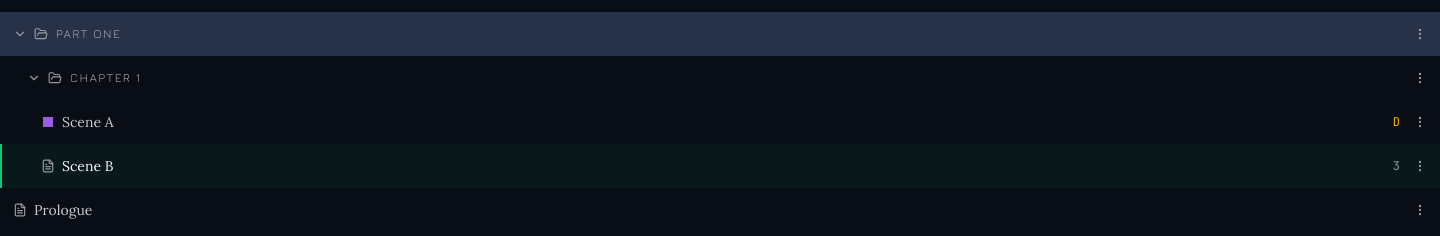
BinderTree › collapses a folder and remembers it
The width and height of the screenshot is (1440, 236).
Click the button named "Collapse Chapter 1" at (34, 78), box [20,56,48,100]
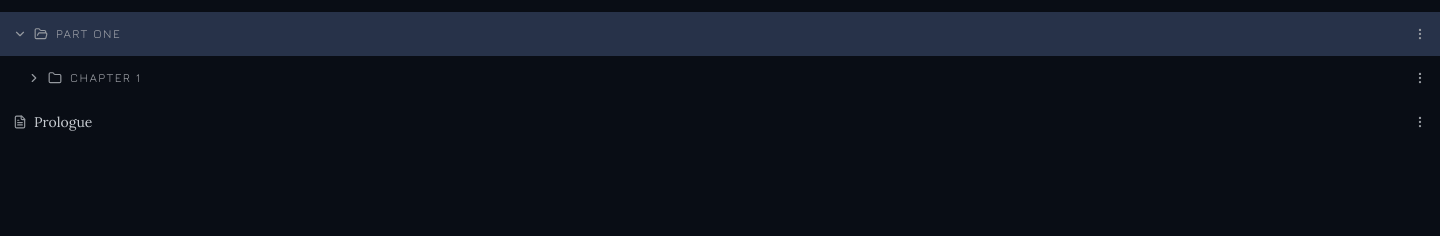
Check: the button "Scene B" is gone
